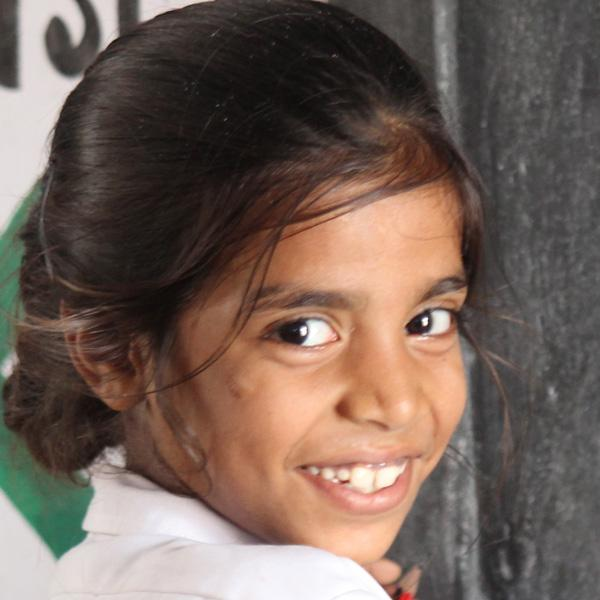Eyes: (253, 304, 357, 365), (398, 296, 464, 353)
